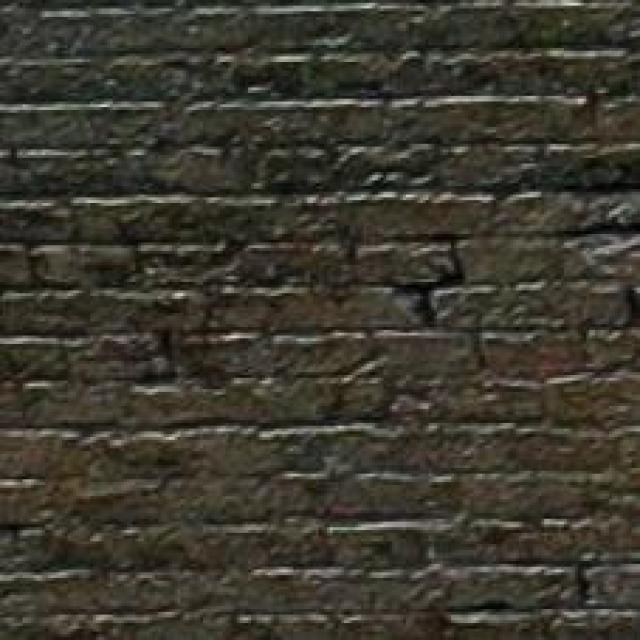Crack: (258, 89, 640, 389)
